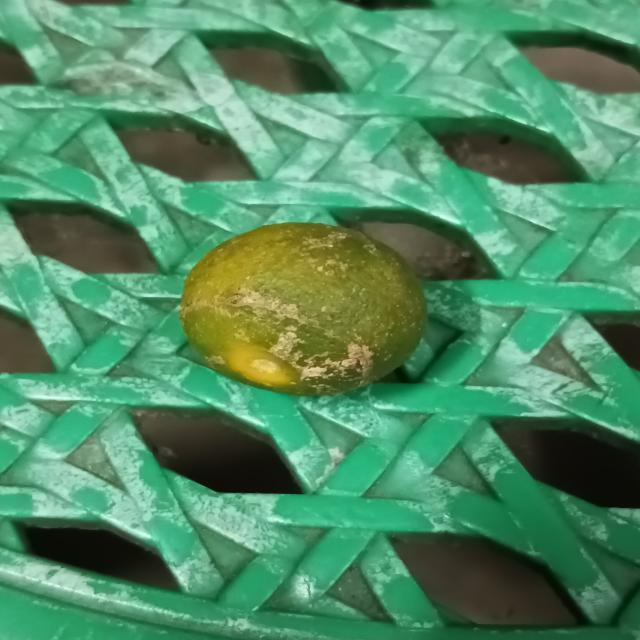thrips: (178, 219, 429, 396)
